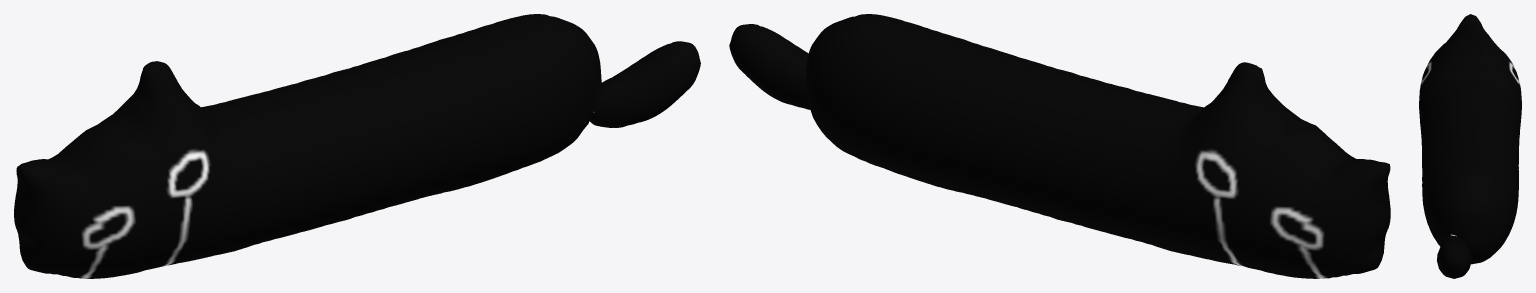
File: asset.glb
3 views of the same model, side by side, from view 1: azimuth 30°, elevation 25°; view 2: azimuth 150°, elevation 25°; view 3: azimuth 270°, elevation 25° (orthographic). The views are drawn at different scales.
Size of the model in its own units: 6.39 by 1.81 by 1.28.
Materials: 1 (1 with a texture image).
